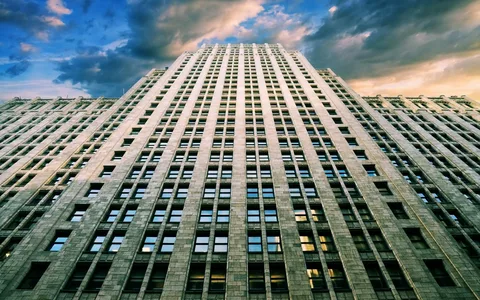high_rise_building: (137, 37, 351, 300)
